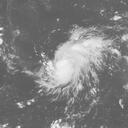cyclone: (35, 35, 106, 97)
